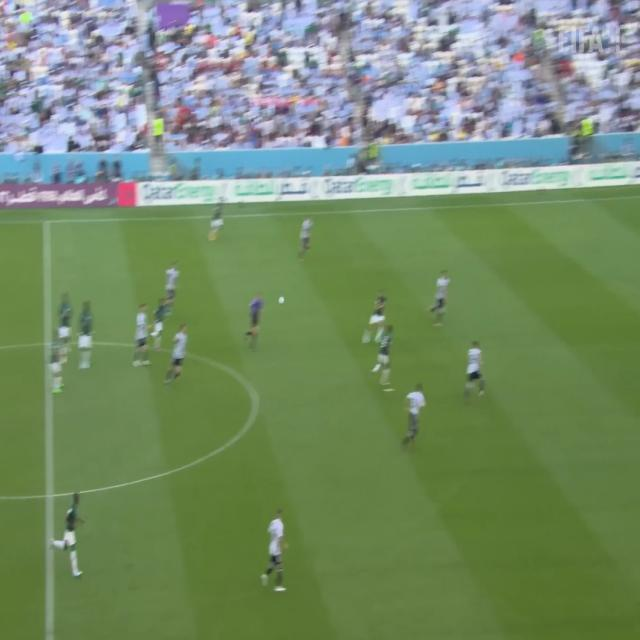player: (55, 490, 86, 581), (260, 502, 288, 597), (401, 380, 427, 451), (165, 328, 192, 390), (79, 298, 101, 373), (465, 336, 488, 402), (376, 324, 398, 390), (132, 299, 151, 371), (433, 265, 454, 327), (56, 297, 76, 360), (49, 338, 71, 394), (166, 258, 181, 315), (210, 196, 226, 249), (300, 213, 315, 261)
